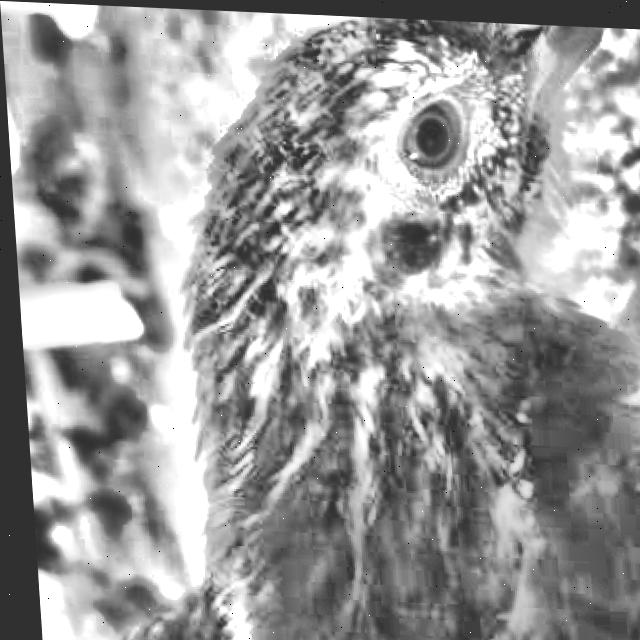Healthy: (386, 68, 492, 223)
